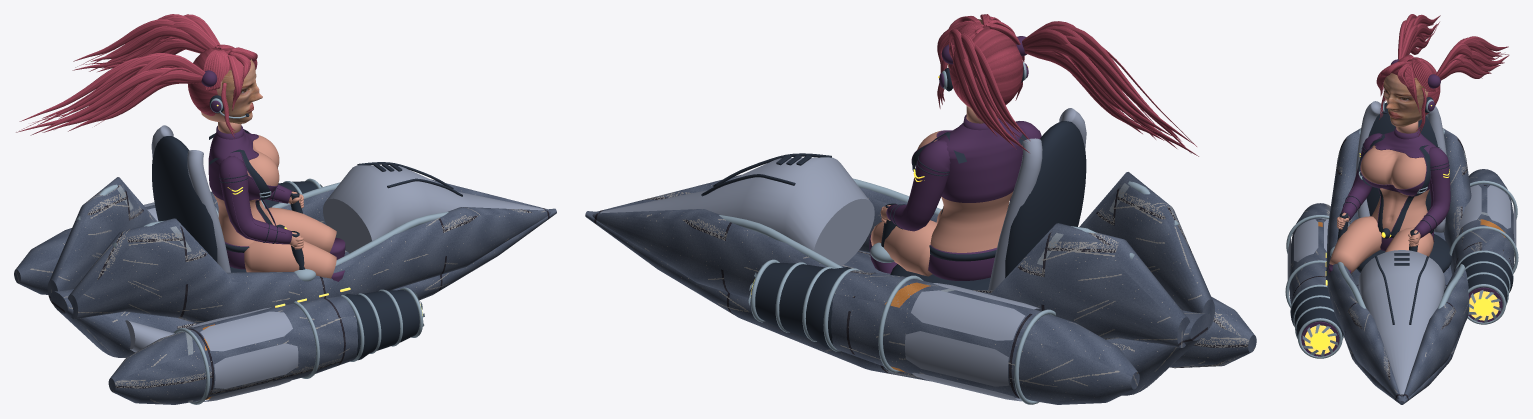
File: player.glb
3 renders of one model, left to right at view 1: azimuth 30°, elevation 25°; view 2: azimuth 150°, elevation 25°; view 3: azimuth 270°, elevation 25°, orthographic. The views are drawn at different scales.
Parts seen in each view (by area): view 1: Surface_armor, Surface_light, Surface_dark, Ponytail follow through, Surface_skin, Surface_accent, Surface_steel, PilotPortrait, Pilot face performance; view 2: Surface_armor, Surface_light, Surface_dark, Surface_skin, Ponytail follow through, Surface_accent, Surface_steel, PilotPortrait; view 3: Surface_armor, Surface_light, Surface_skin, Surface_dark, Surface_steel, Surface_accent, Ponytail follow through, PilotPortrait, Pilot face performance, Surface_glow, Surface_warning.
Boxes of the visible parts, x1=… form: Surface_armor: x1=14, y1=177, x2=556, y2=404; Surface_light: x1=125, y1=125, x2=544, y2=401; Surface_dark: x1=152, y1=129, x2=462, y2=360; Ponytail follow through: x1=16, y1=14, x2=219, y2=135; Surface_skin: x1=208, y1=121, x2=336, y2=278; Surface_accent: x1=216, y1=125, x2=345, y2=281; Surface_steel: x1=76, y1=178, x2=448, y2=404; PilotPortrait: x1=188, y1=44, x2=257, y2=138; Pilot face performance: x1=221, y1=59, x2=262, y2=123; Surface_armor: x1=585, y1=172, x2=1256, y2=404; Surface_light: x1=600, y1=108, x2=1086, y2=401; Surface_dark: x1=701, y1=120, x2=1086, y2=349; Surface_skin: x1=870, y1=106, x2=1026, y2=276; Ponytail follow through: x1=948, y1=21, x2=1198, y2=156; Surface_accent: x1=869, y1=114, x2=1041, y2=280; Surface_steel: x1=719, y1=167, x2=1179, y2=404; PilotPortrait: x1=937, y1=14, x2=1028, y2=111; Surface_armor: x1=1289, y1=128, x2=1514, y2=404; Surface_light: x1=1287, y1=101, x2=1516, y2=395; Surface_skin: x1=1329, y1=121, x2=1435, y2=273; Surface_dark: x1=1290, y1=102, x2=1513, y2=337; Surface_steel: x1=1285, y1=129, x2=1518, y2=358; Surface_accent: x1=1301, y1=127, x2=1502, y2=356; Ponytail follow through: x1=1398, y1=14, x2=1509, y2=80; PilotPortrait: x1=1376, y1=54, x2=1440, y2=136; Pilot face performance: x1=1383, y1=73, x2=1425, y2=127; Surface_glow: x1=1304, y1=252, x2=1499, y2=354; Surface_warning: x1=1310, y1=153, x2=1493, y2=349.
Size of the model in its own units: 2.15 by 1.23 by 0.9664.
10 materials, 3 textured.
